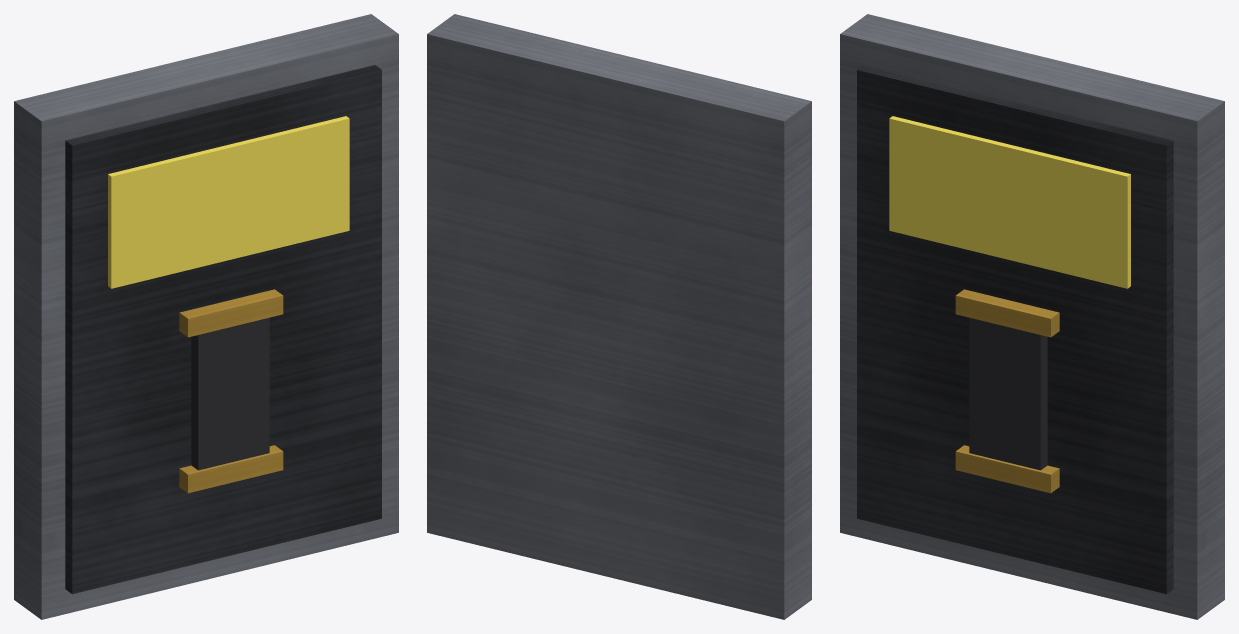
The model's file is FusePanel.fbx.
3 views of the same model, side by side, from view 1: azimuth 30°, elevation 25°; view 2: azimuth 150°, elevation 25°; view 3: azimuth 330°, elevation 25° (orthographic).
Parts seen in each view (by area): view 1: FusePanel; view 2: FusePanel; view 3: FusePanel.
Boxes of the visible parts, x1=… form: FusePanel: x1=14, y1=14, x2=398, y2=619; FusePanel: x1=427, y1=14, x2=811, y2=619; FusePanel: x1=840, y1=14, x2=1224, y2=619.
Size of the model in its own units: 0.6 by 0.8 by 0.125.
Materials: 5 (3 with a texture image).
